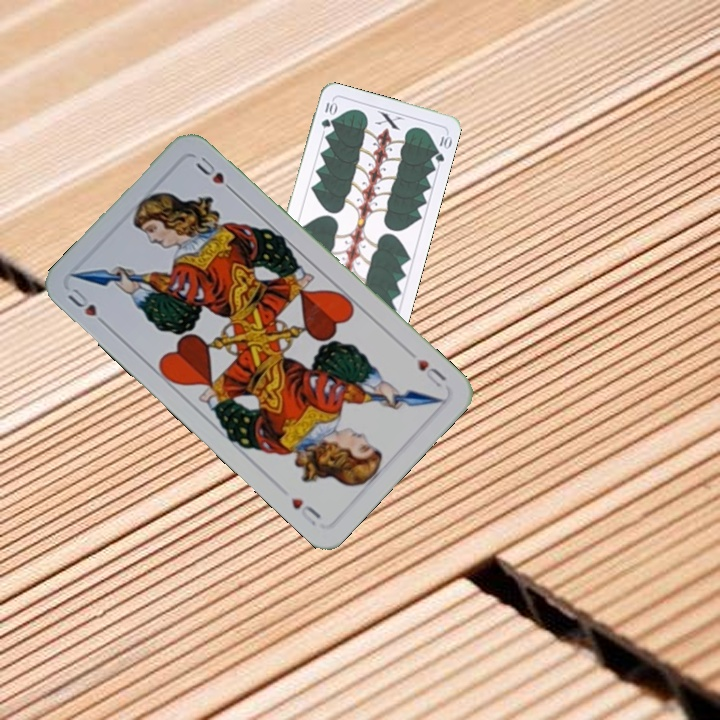G10: (317, 96, 338, 130)
HU: (63, 284, 112, 330), (413, 354, 450, 390)
